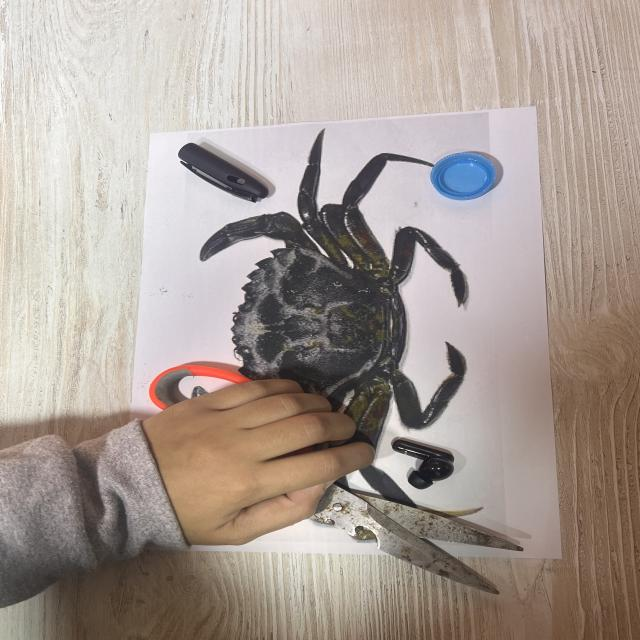European_Green_Crab: (173, 123, 486, 549)
